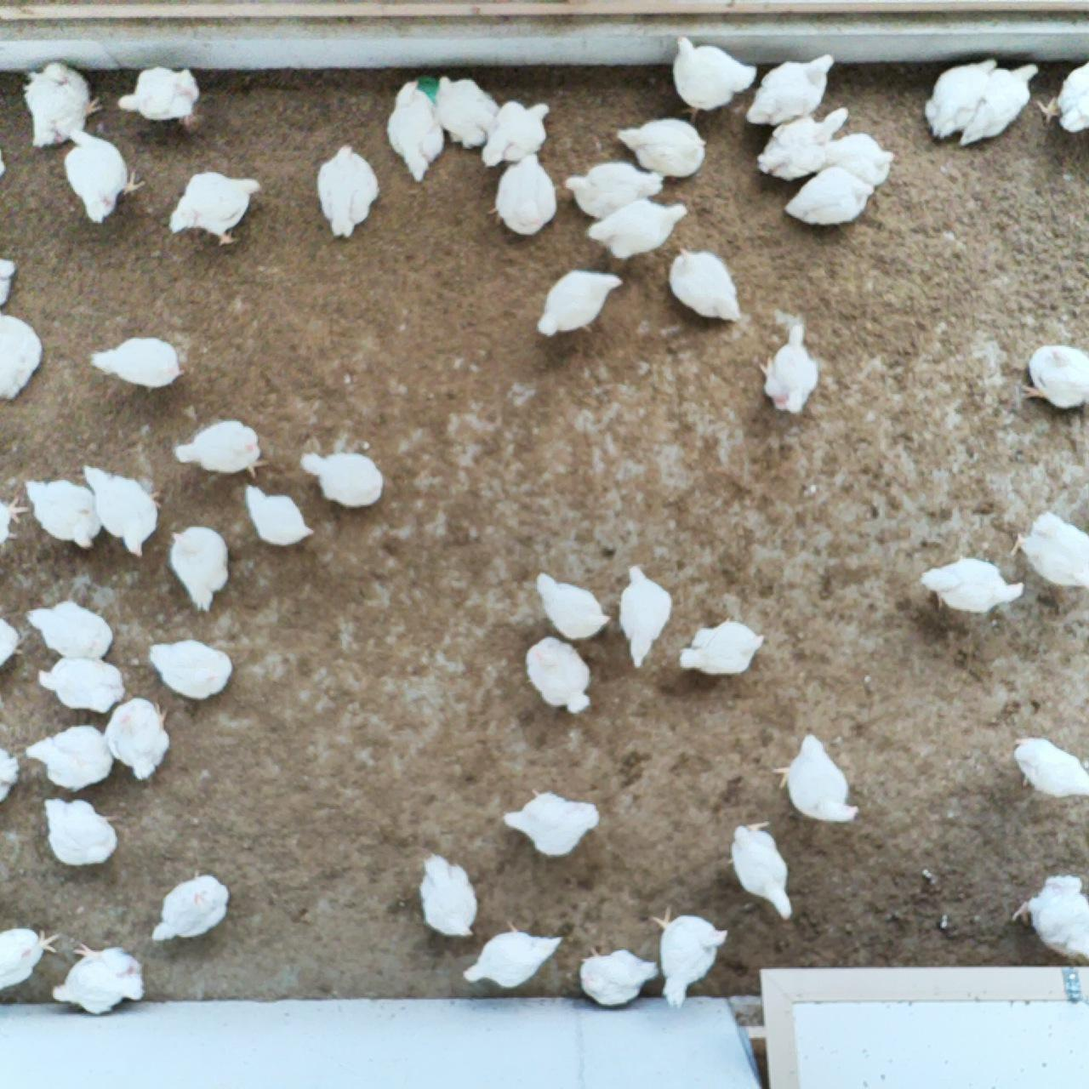chicken: (1009, 862, 1089, 985), (54, 118, 144, 223), (770, 730, 860, 831), (670, 30, 764, 126), (755, 99, 857, 186), (955, 55, 1043, 152), (650, 906, 730, 1010), (79, 460, 162, 560), (19, 60, 105, 156), (460, 920, 570, 994), (498, 785, 602, 862), (172, 169, 263, 252), (729, 814, 800, 920), (51, 942, 150, 1018), (745, 50, 838, 128), (918, 53, 996, 143), (18, 472, 106, 551), (1004, 510, 1089, 591), (314, 141, 382, 240), (613, 557, 674, 667), (488, 148, 559, 240), (386, 77, 450, 179), (922, 556, 1027, 618), (561, 161, 667, 222), (22, 720, 113, 791), (664, 245, 742, 327), (611, 117, 706, 184), (586, 196, 687, 259), (540, 267, 627, 340), (151, 872, 235, 947), (20, 597, 118, 661), (40, 791, 120, 869), (84, 333, 186, 394), (760, 318, 823, 415), (31, 654, 127, 717), (167, 521, 232, 614), (524, 632, 595, 717), (174, 418, 268, 482), (143, 637, 234, 703), (532, 566, 611, 642), (1007, 731, 1089, 804), (104, 693, 170, 783), (784, 167, 882, 227), (415, 852, 478, 941), (112, 64, 200, 127), (432, 69, 499, 150), (677, 617, 763, 680), (1020, 337, 1089, 414), (299, 449, 386, 510), (242, 482, 321, 549), (576, 944, 658, 1008), (479, 97, 552, 167), (804, 138, 894, 193), (0, 308, 47, 410), (1035, 53, 1089, 140), (0, 925, 59, 997), (0, 491, 37, 553), (0, 248, 20, 319), (0, 612, 22, 673), (0, 730, 17, 803)
